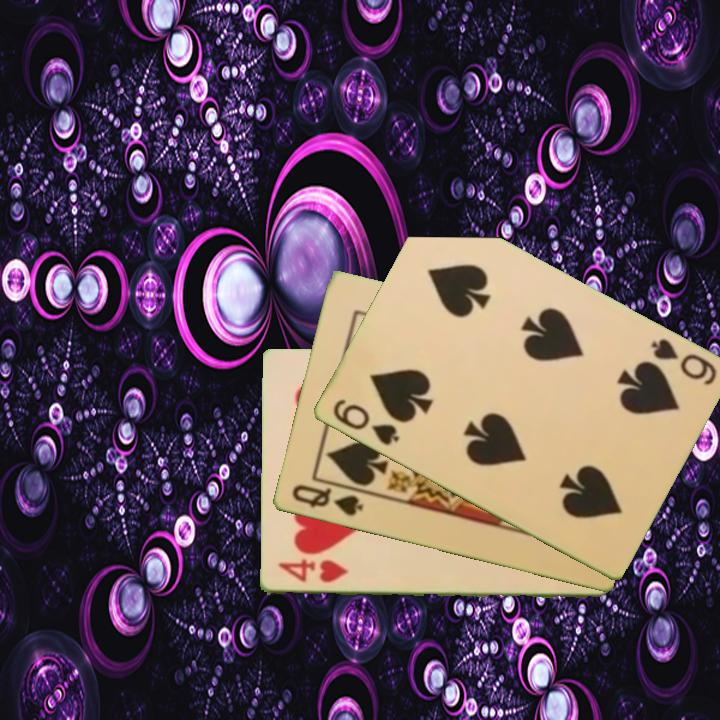4h: (274, 557, 351, 586)
6s: (328, 395, 402, 449), (646, 335, 719, 389)
Qs: (287, 481, 366, 520)
